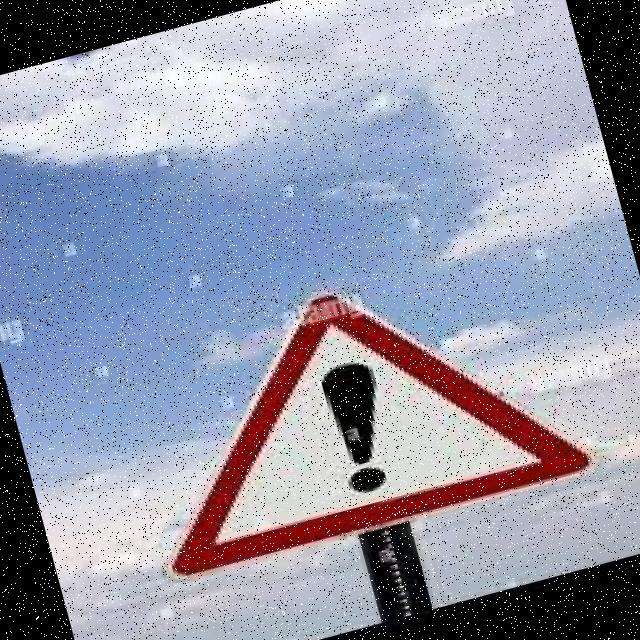warning: (98, 222, 599, 596)
